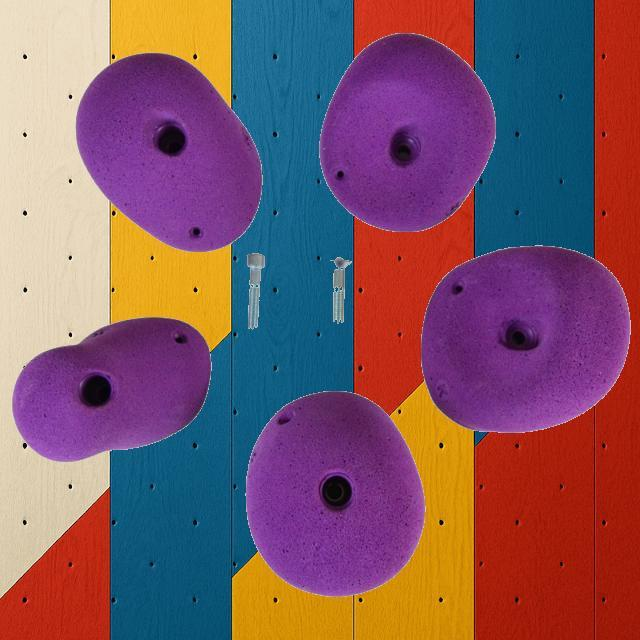Jug: (420, 244, 632, 432), (74, 50, 262, 252), (245, 389, 425, 596), (318, 31, 497, 232), (11, 316, 211, 462)
